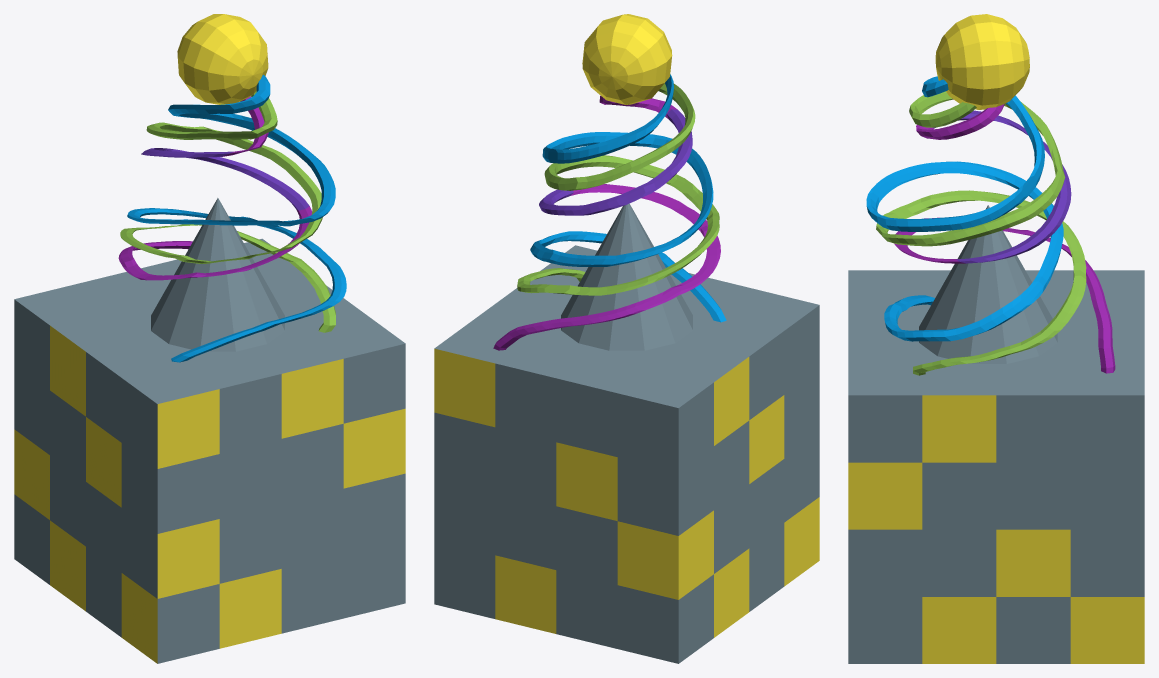
3 renders of one model, left to right at view 1: azimuth 30°, elevation 25°; view 2: azimuth 150°, elevation 25°; view 3: azimuth 270°, elevation 25°, orthographic. The views are drawn at different scales.
Visible parts, largest first — view 1: mesh_705144847, mesh_434373693, group_550851454, mesh_2126626066, group_1324222474, group_1786026587; view 2: mesh_705144847, mesh_434373693, group_550851454, group_1786026587, group_1324222474, mesh_2126626066; view 3: mesh_705144847, group_550851454, mesh_434373693, group_1324222474, mesh_2126626066, group_1786026587.
Part boxes in pixels (x1=…): mesh_705144847: x1=14, y1=238, x2=405, y2=663; mesh_434373693: x1=151, y1=198, x2=284, y2=351; group_550851454: x1=127, y1=74, x2=346, y2=362; mesh_2126626066: x1=177, y1=14, x2=268, y2=104; group_1324222474: x1=120, y1=91, x2=335, y2=332; group_1786026587: x1=118, y1=96, x2=312, y2=280; mesh_705144847: x1=434, y1=245, x2=819, y2=663; mesh_434373693: x1=561, y1=203, x2=692, y2=350; group_550851454: x1=530, y1=74, x2=726, y2=322; group_1786026587: x1=493, y1=95, x2=720, y2=350; group_1324222474: x1=517, y1=83, x2=719, y2=295; mesh_2126626066: x1=582, y1=14, x2=672, y2=104; mesh_705144847: x1=848, y1=270, x2=1144, y2=663; group_550851454: x1=866, y1=76, x2=1063, y2=341; mesh_434373693: x1=919, y1=205, x2=1057, y2=363; group_1324222474: x1=876, y1=91, x2=1086, y2=375; mesh_2126626066: x1=935, y1=14, x2=1029, y2=109; group_1786026587: x1=894, y1=104, x2=1115, y2=373.
Bounding box in the file's own units: 201 × 437 × 201.
